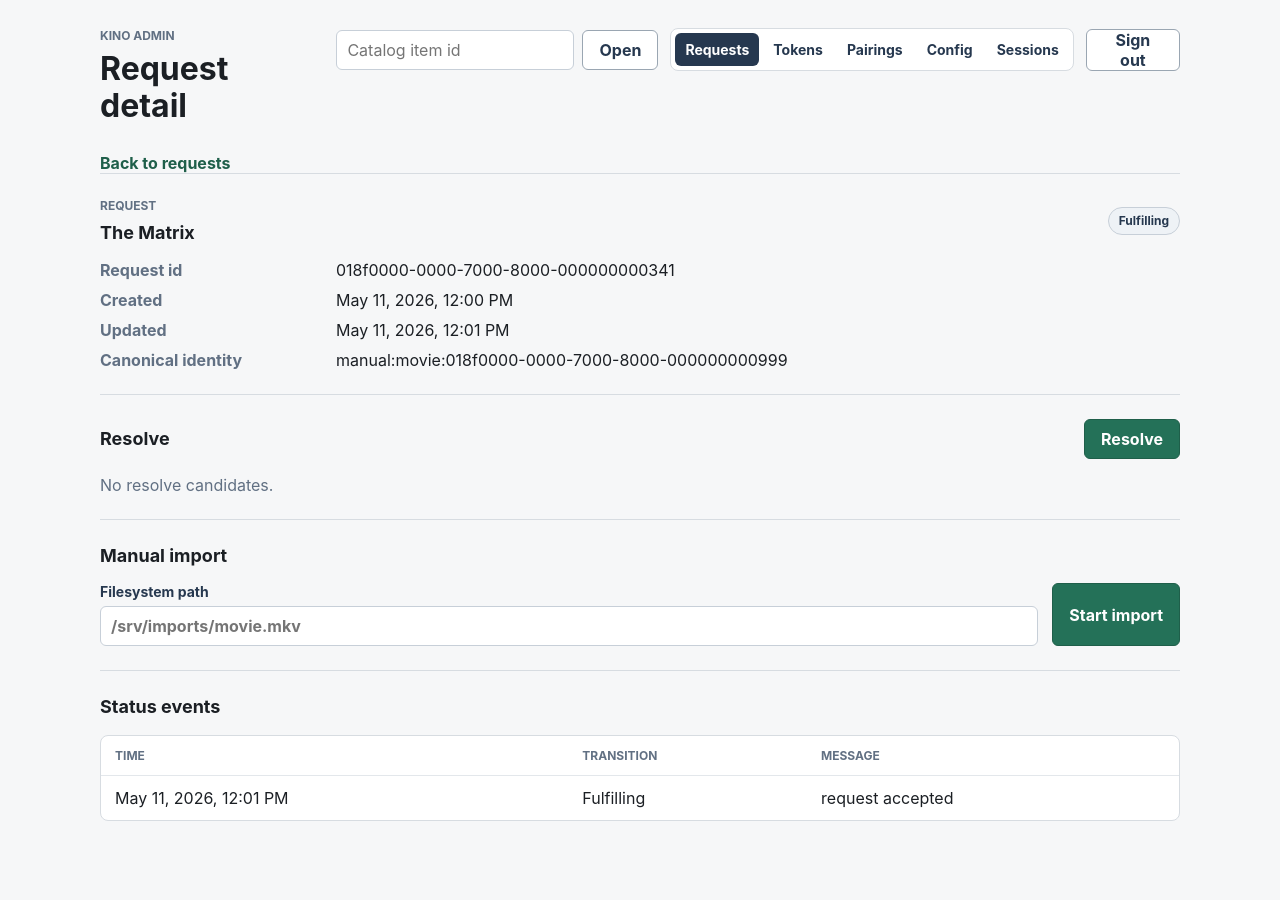
surfaces a missing manual import path inline
Expected: the heading "The Matrix" is shown, [100,221,195,244]
Click the button "Start import" at (1116, 615), box [1052,583,1180,646]
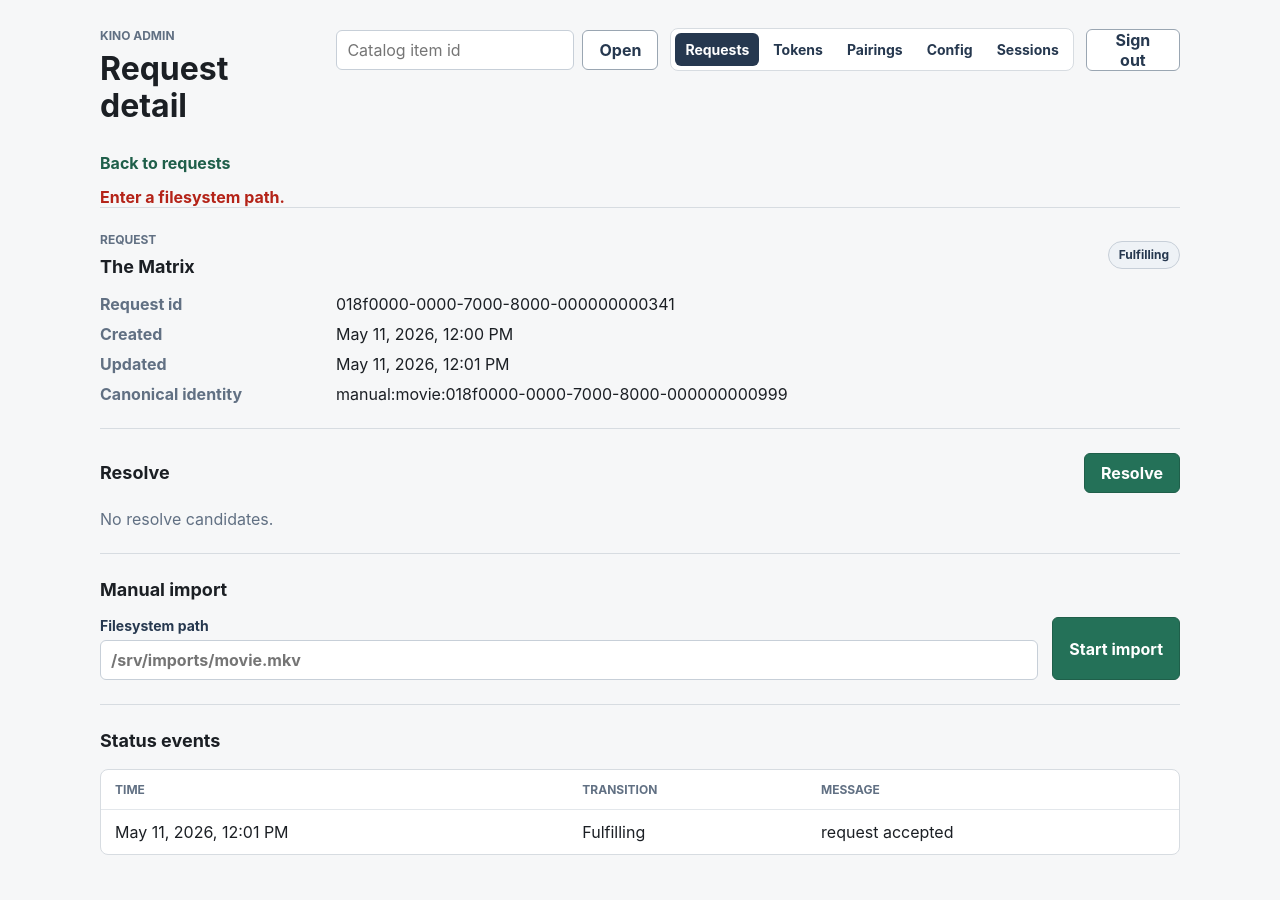
Expected: the message reads "Enter a filesystem path.", [100,187,285,207]
